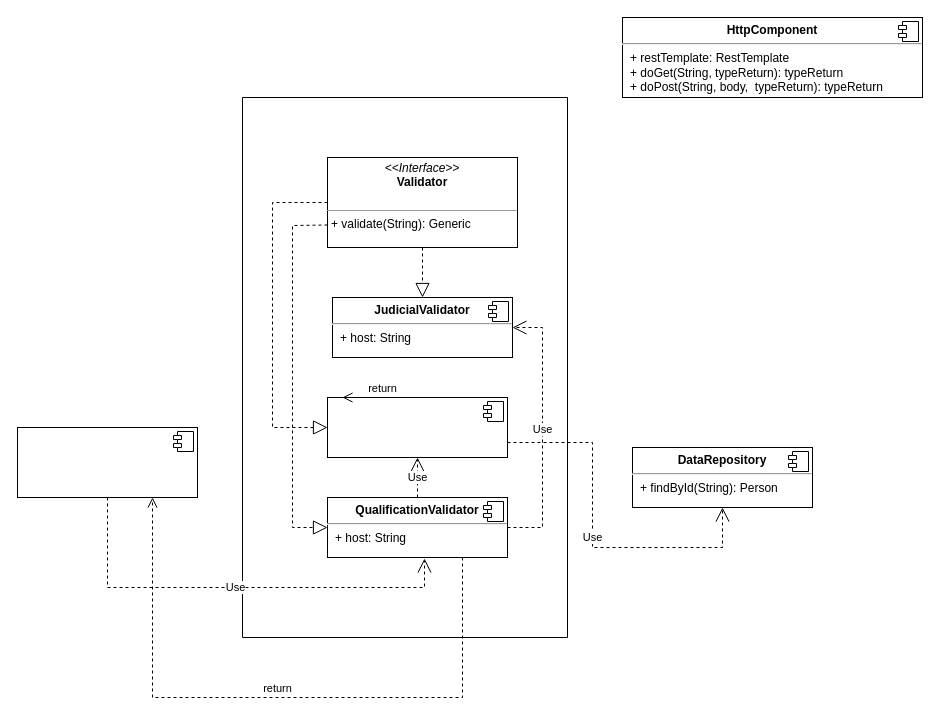
This 940x725 diagram has some shape labels left out. The box of each missing label's shape, as (x1, y1, x2, y2) in pixels:
PersonValidator + host: String: (326, 396, 508, 458)
ProspectService + pin: String: (16, 426, 198, 498)
